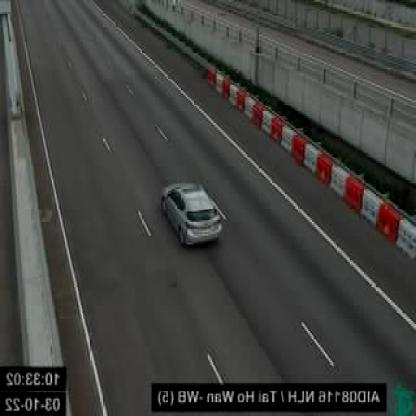Car: (161, 180, 221, 246)
